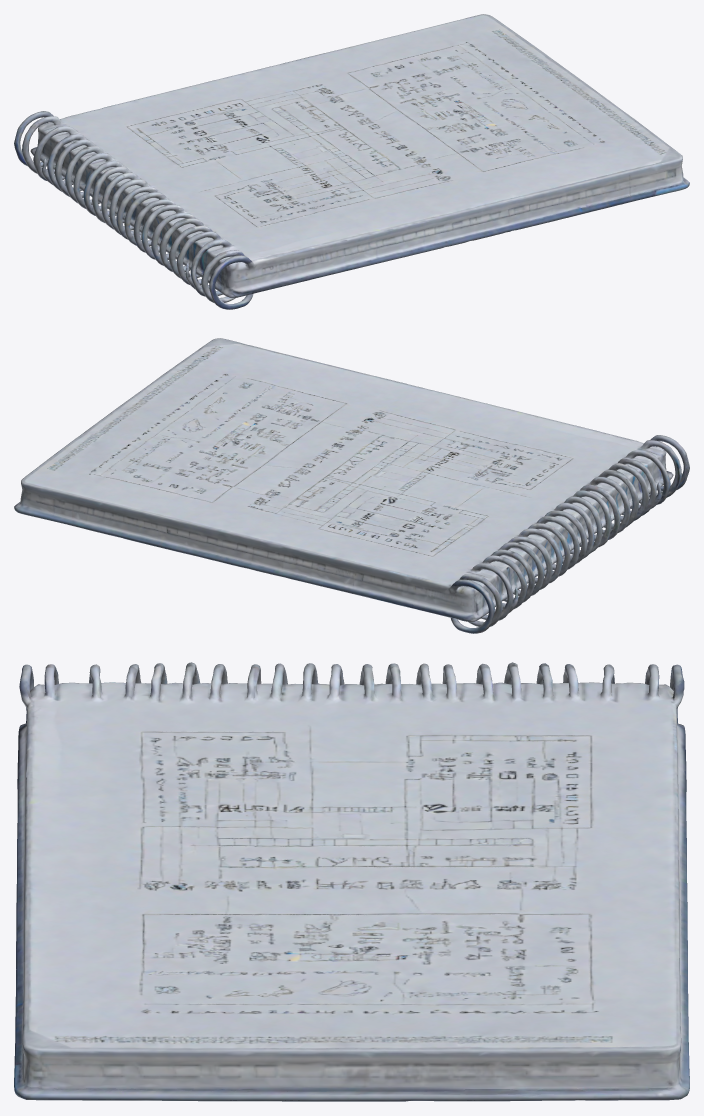
Rendered from 笔记本.glb.
The picture shows the model from 3 angles, top to bottom: view 1: azimuth 30°, elevation 25°; view 2: azimuth 150°, elevation 25°; view 3: azimuth 270°, elevation 25°; orthographic projection. The views are drawn at different scales.
Bounding box in the file's own units: 2 × 0.223 × 1.48.
1 material, 1 textured.
